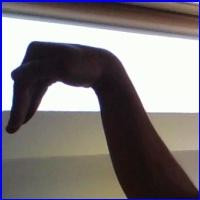A: (5, 34, 113, 149)
